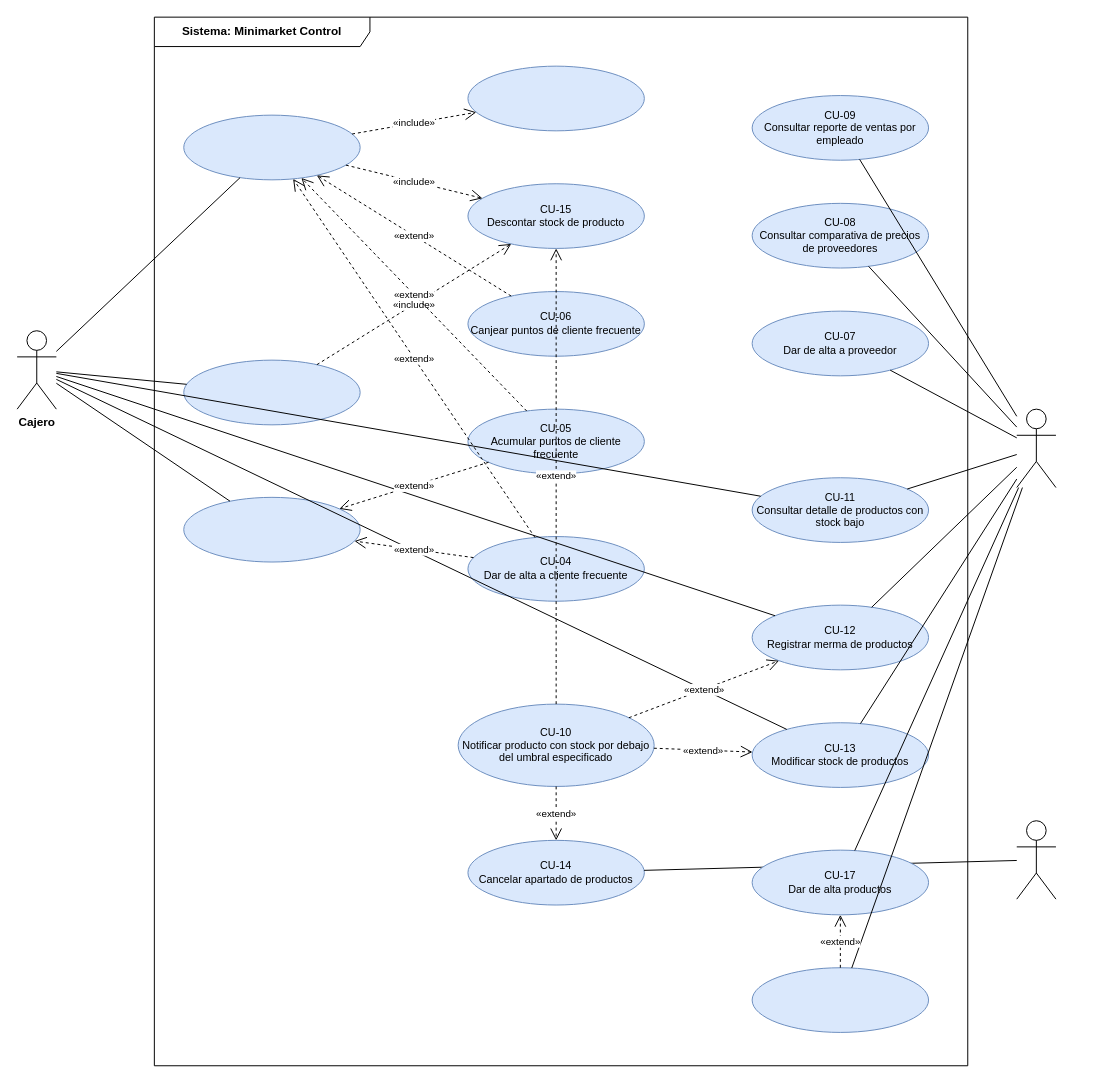
The diagram is 1095 pixels wide and 1083 high, and some of its shapes have lost their labels. Each missing label, with the centre of its shape:
"Administrador" goes at pixel 1036 448.
"CU-01 Registrar venta en caja" goes at pixel 271 147.
"CU-02 Registrar pedido apartado" goes at pixel 271 392.
"CU-03 Liquidar pedido apartado" goes at pixel 271 529.
"CU-16 Mostrar comprobante en pantalla" goes at pixel 555 98.
"CU-18 Registrar producto con proveedor" goes at pixel 840 999.
"Sistema (temporizador)" goes at pixel 1036 859.
